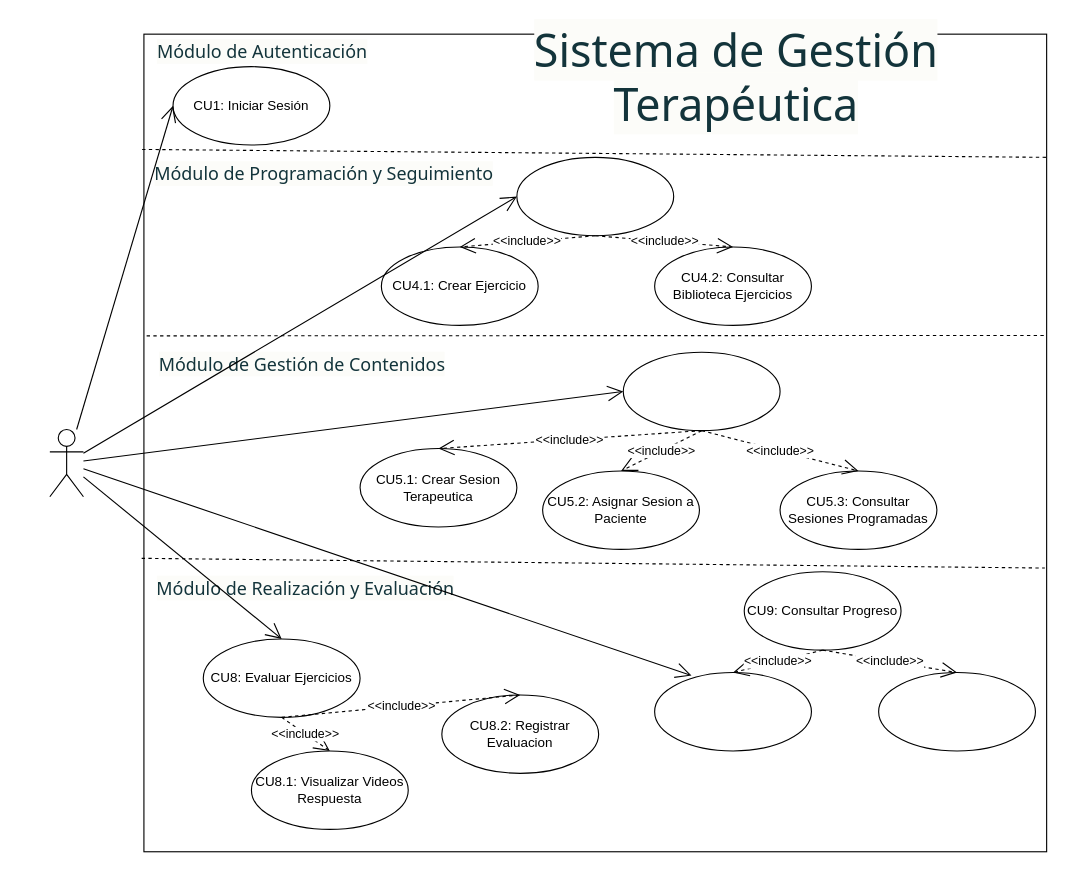
Image size: 1070x871. Some labels were removed from this diagram. The centre of each missing label's shape, as x and y in pixels:
CU4: Gestionar Ejercicios: the point at 595,196
CU5: Gestionar Sesiones: the point at 701,391
CU9.1: Ver Historial Evaluaciones: the point at 732,711
CU9.2: Visualizar Graficos de Progreso: the point at 956,711
PROFESIONAL: the point at 66,462
